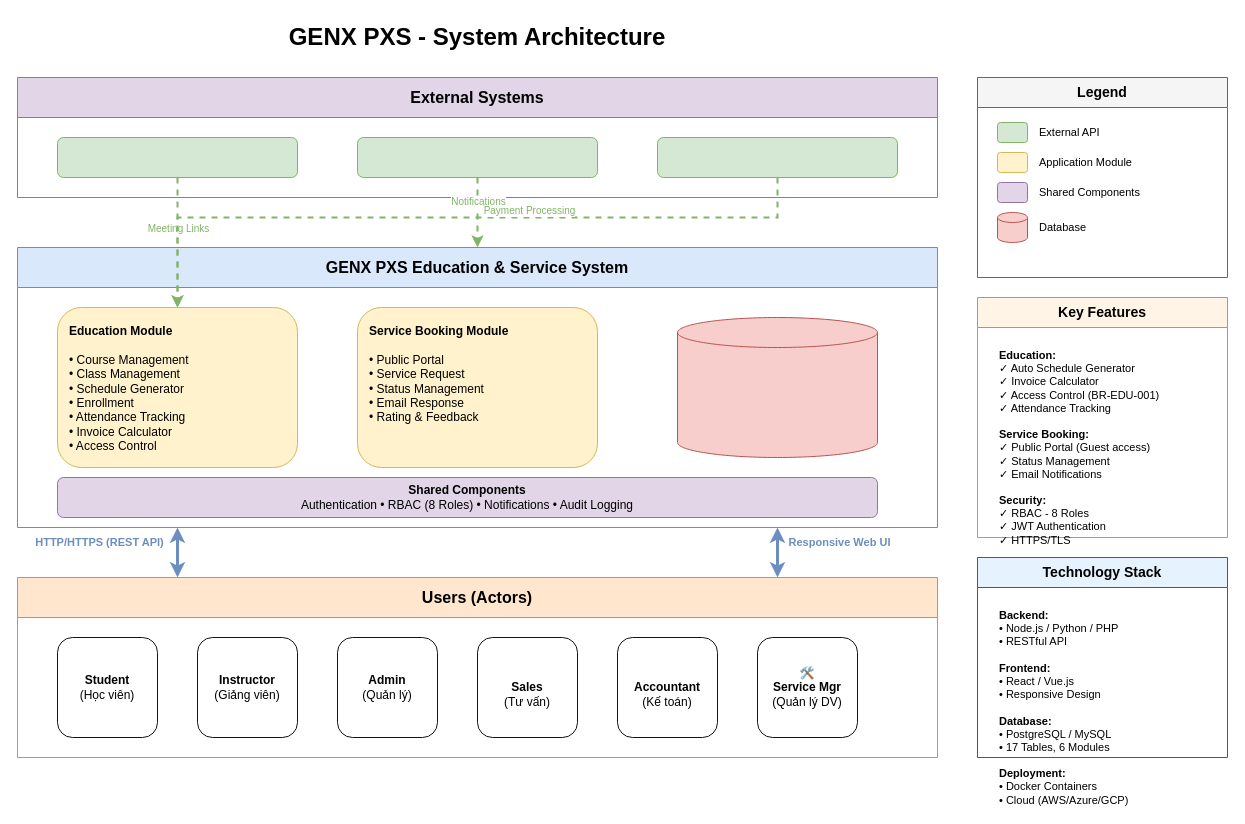
Image size: 1245x824. Some labels were removed from this diagram. Here are the shapes that lost their labels. From the top down, the centre of each, then its label:
the point at 177,157: Google Meet API
the point at 477,157: Email Service (SendGrid/Mailgun)
the point at 777,157: Payment Gateway (VNPay/Momo/ZaloPay)
the point at 777,387: Database (PostgreSQL/MySQL) 17 Tables
